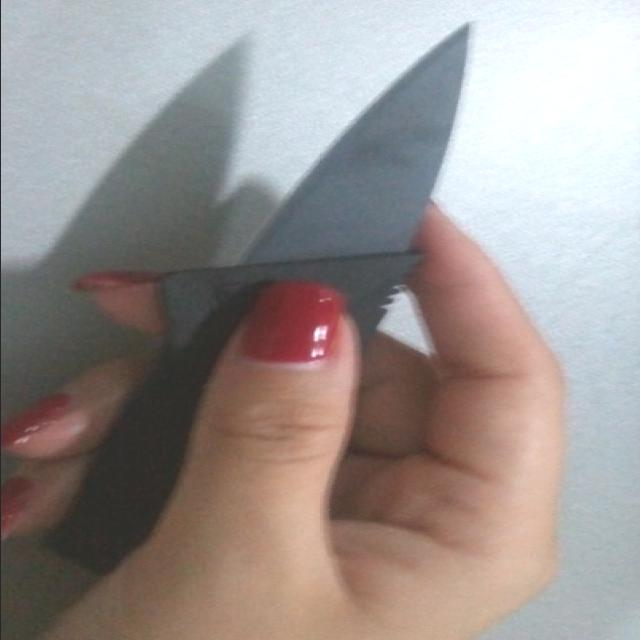knife: (148, 12, 495, 382)
